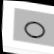no answer: (17, 17, 48, 42)
